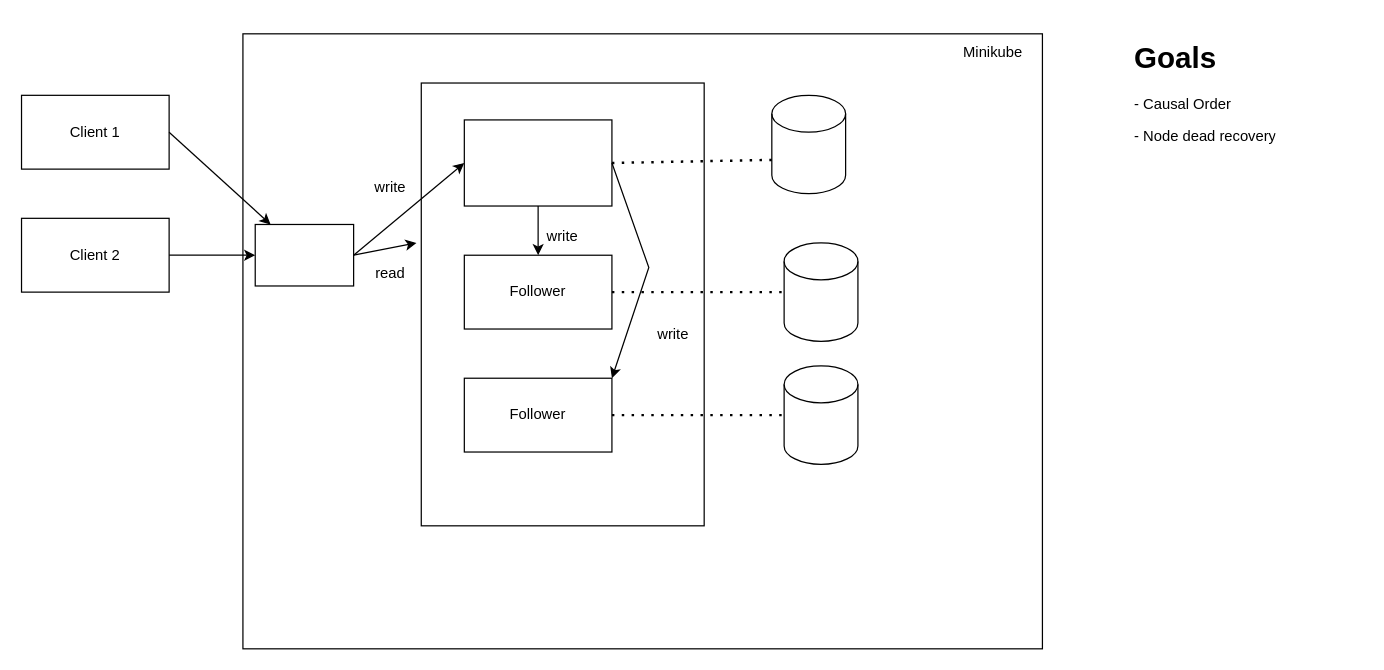
The diagram is 1384 pixels wide and 670 high, and some of its shapes have lost their labels. Here are the shapes that lost their labels. From the top down, the box of each, then its label:
(463, 119, 612, 206): Leader
(254, 223, 354, 286): Orchestrator
